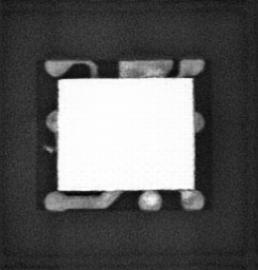DIE_INK: (42, 143, 54, 152)
